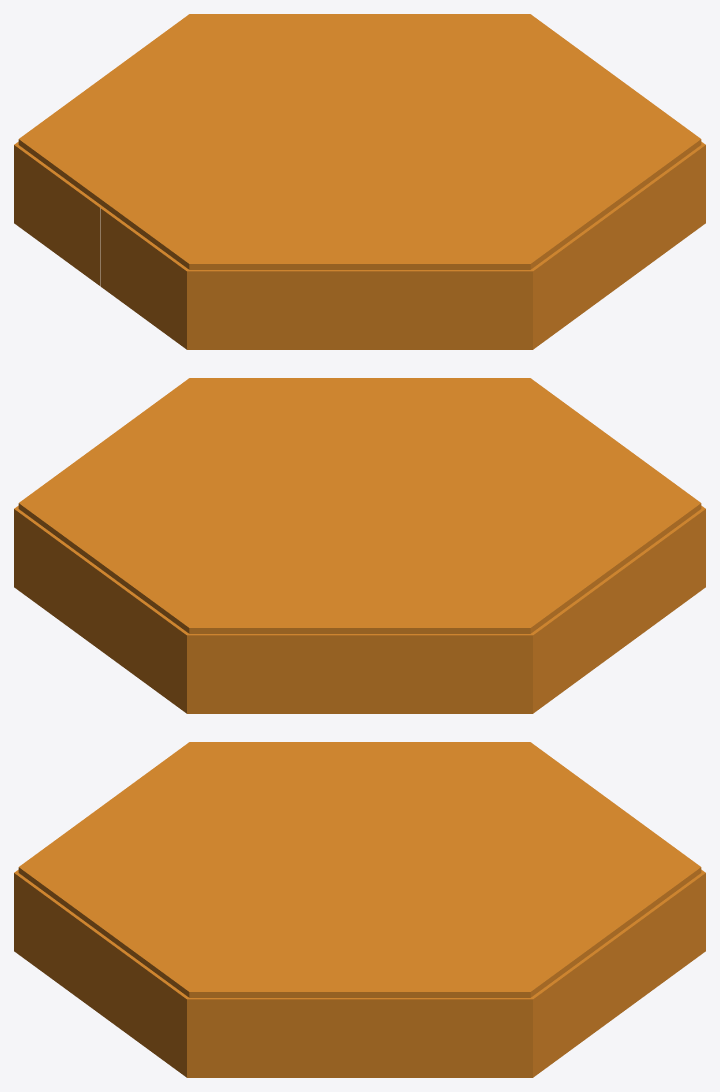
The model's file is beigeBlueTile.fbx.
The picture shows the model from 3 angles, top to bottom: view 1: azimuth 30°, elevation 25°; view 2: azimuth 150°, elevation 25°; view 3: azimuth 270°, elevation 25°; orthographic projection.
Parts seen in each view (by area): view 1: beigeBlueTile; view 2: beigeBlueTile; view 3: beigeBlueTile.
Boxes of the visible parts, x1,y1,x2,y2 form: beigeBlueTile: (14, 14, 705, 349); beigeBlueTile: (14, 378, 705, 713); beigeBlueTile: (14, 742, 705, 1077).
Bounding box in the file's own units: 200 × 31 × 231.
